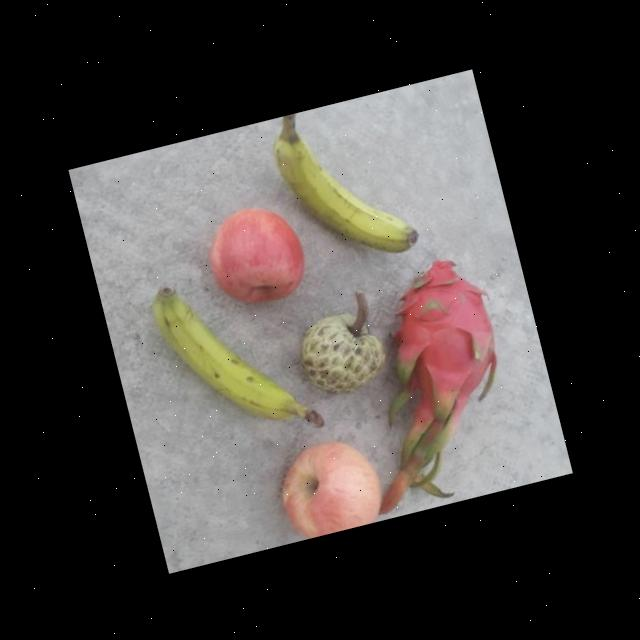Sakya fruit: (286, 288, 394, 402)
apple: (196, 194, 314, 313), (267, 426, 388, 542)
banana: (140, 249, 326, 462), (264, 91, 420, 276)
pitaya: (366, 247, 520, 435)
